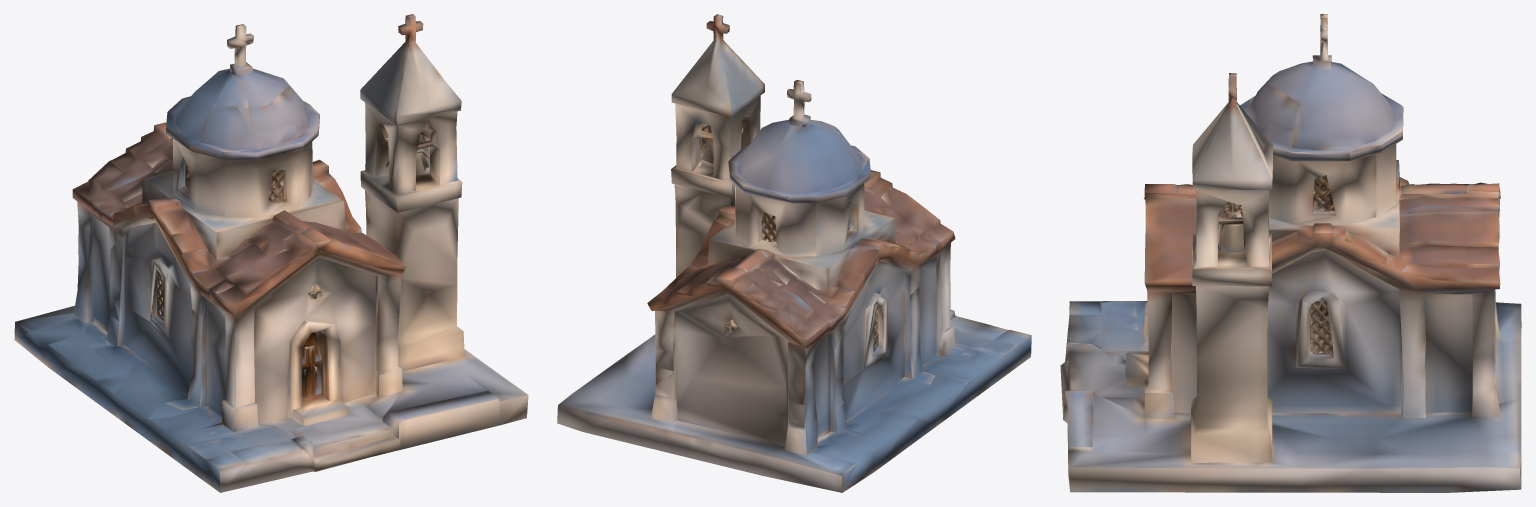
The model's file is tapinak-2.glb.
3 renders of one model, left to right at view 1: azimuth 30°, elevation 25°; view 2: azimuth 150°, elevation 25°; view 3: azimuth 270°, elevation 25°, orthographic. The views are drawn at different scales.
Visible parts, largest first — view 1: node_0; view 2: node_0; view 3: node_0.
Part boxes in pixels (x1,y1,x2,y2): node_0: [14, 14, 528, 492]; node_0: [557, 14, 1031, 492]; node_0: [1060, 14, 1521, 492].
Bounding box in the file's own units: 0.6388 × 0.7082 × 0.748.
1 material, 1 textured.
